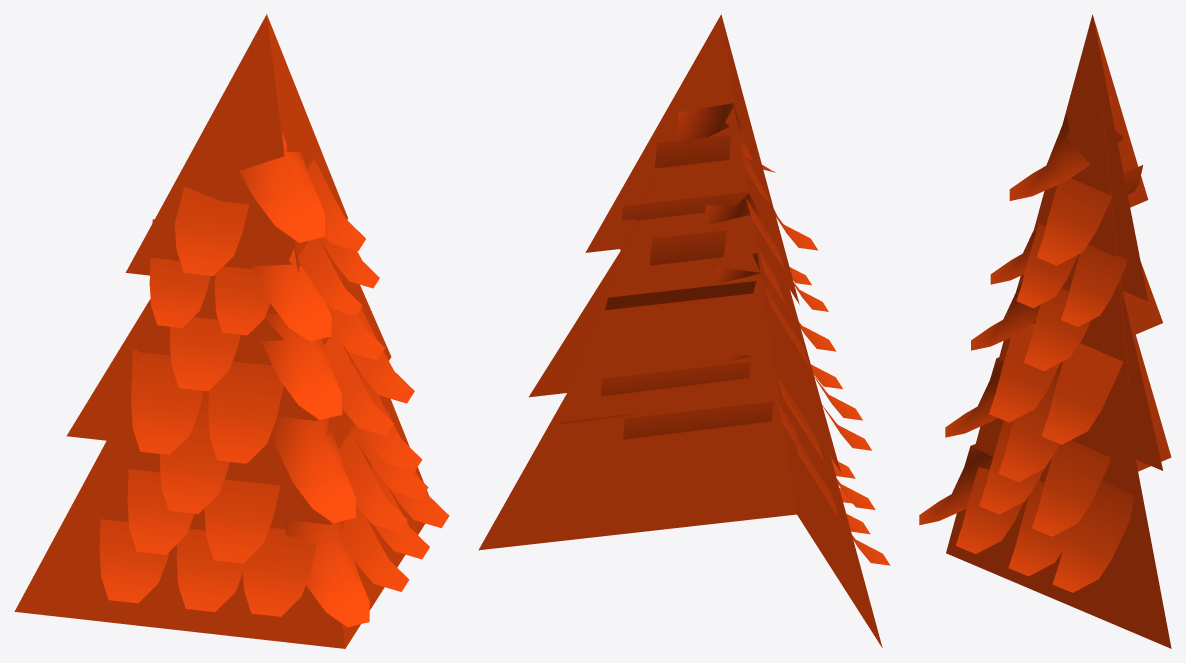
Rendered from tree_1.FBX.
3 views of the same model, side by side, from view 1: azimuth 30°, elevation 25°; view 2: azimuth 150°, elevation 25°; view 3: azimuth 270°, elevation 25° (orthographic). The views are drawn at different scales.
Visible parts, largest first — view 1: tree_C_v2; view 2: tree_C_v2; view 3: tree_C_v2.
Part boxes in pixels (<box>): tree_C_v2: <box>14,14,449,648</box>; tree_C_v2: <box>478,14,890,647</box>; tree_C_v2: <box>919,14,1171,648</box>.
Size of the model in its own units: 8685 by 4835 by 11405.
